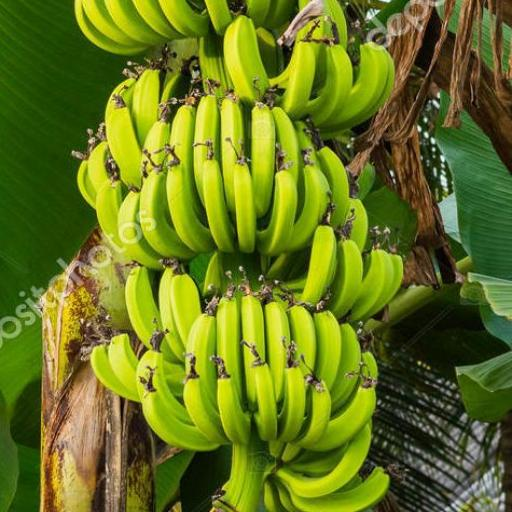banana-unripe: (37, 0, 426, 512)
